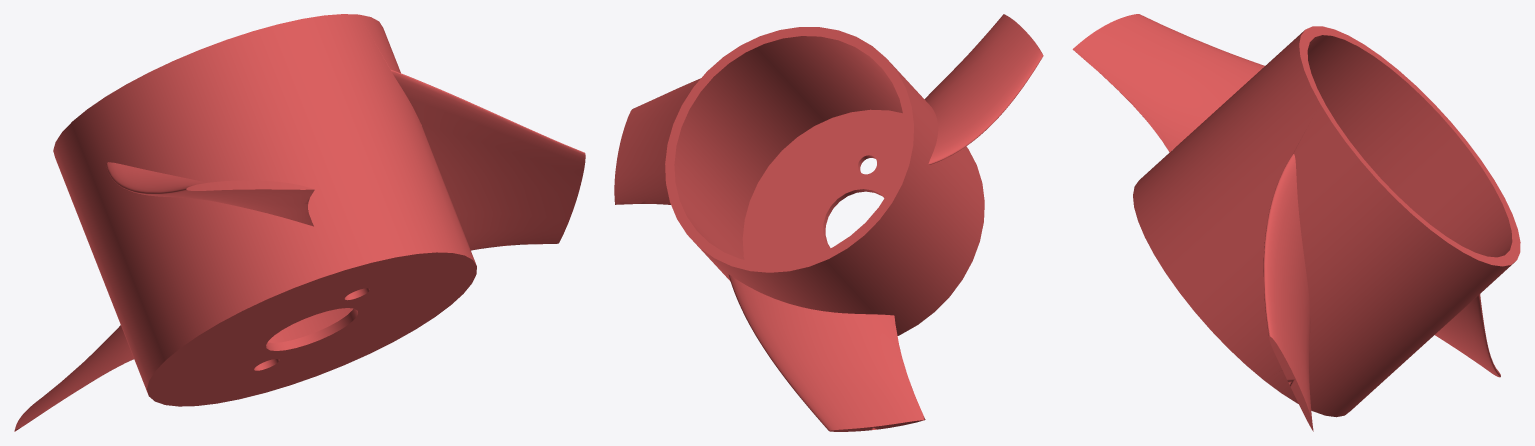
Rendered from HLS.glb.
3 views of the same model, side by side, from view 1: azimuth 30°, elevation 25°; view 2: azimuth 150°, elevation 25°; view 3: azimuth 270°, elevation 25° (orthographic). The views are drawn at different scales.
Parts seen in each view (by area): view 1: CAD_material_0; view 2: CAD_material_0; view 3: CAD_material_0.
Boxes of the visible parts, x1,y1,x2,y2 form: CAD_material_0: [14, 14, 585, 431]; CAD_material_0: [614, 14, 1043, 431]; CAD_material_0: [1072, 14, 1520, 431].
Size of the model in its own units: 0.0632 by 0.0532 by 0.0572.
